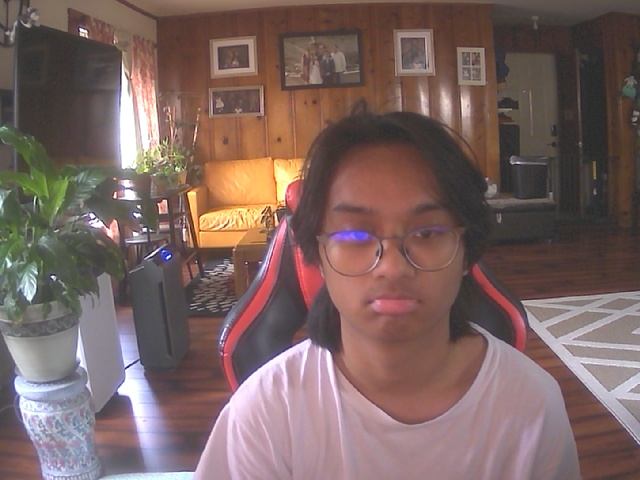sad: (310, 122, 480, 348)
